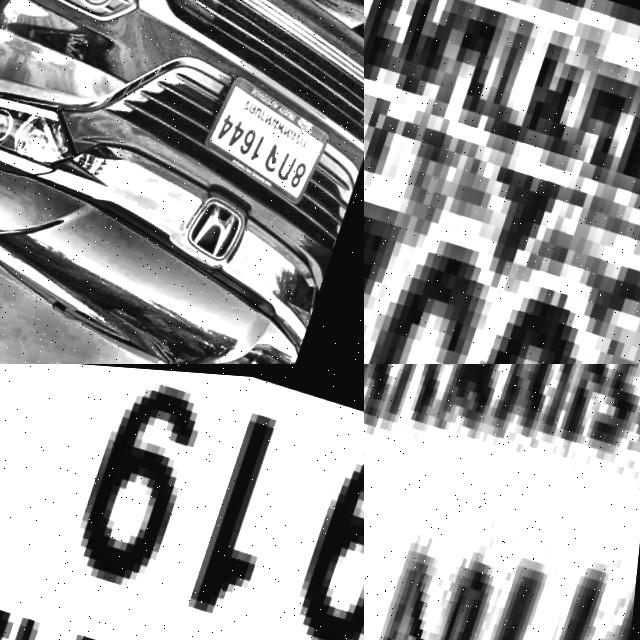license-plate: (364, 0, 640, 364), (0, 364, 364, 640), (364, 364, 640, 640), (194, 54, 352, 207)
